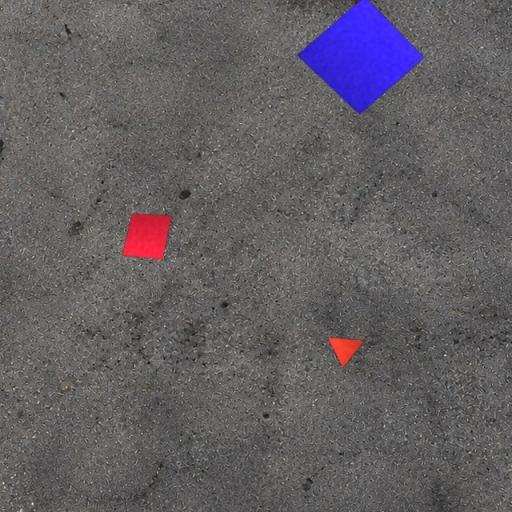BLUE_SQUARE: (296, 0, 426, 115)
RED_SQUARE: (122, 213, 172, 260)
